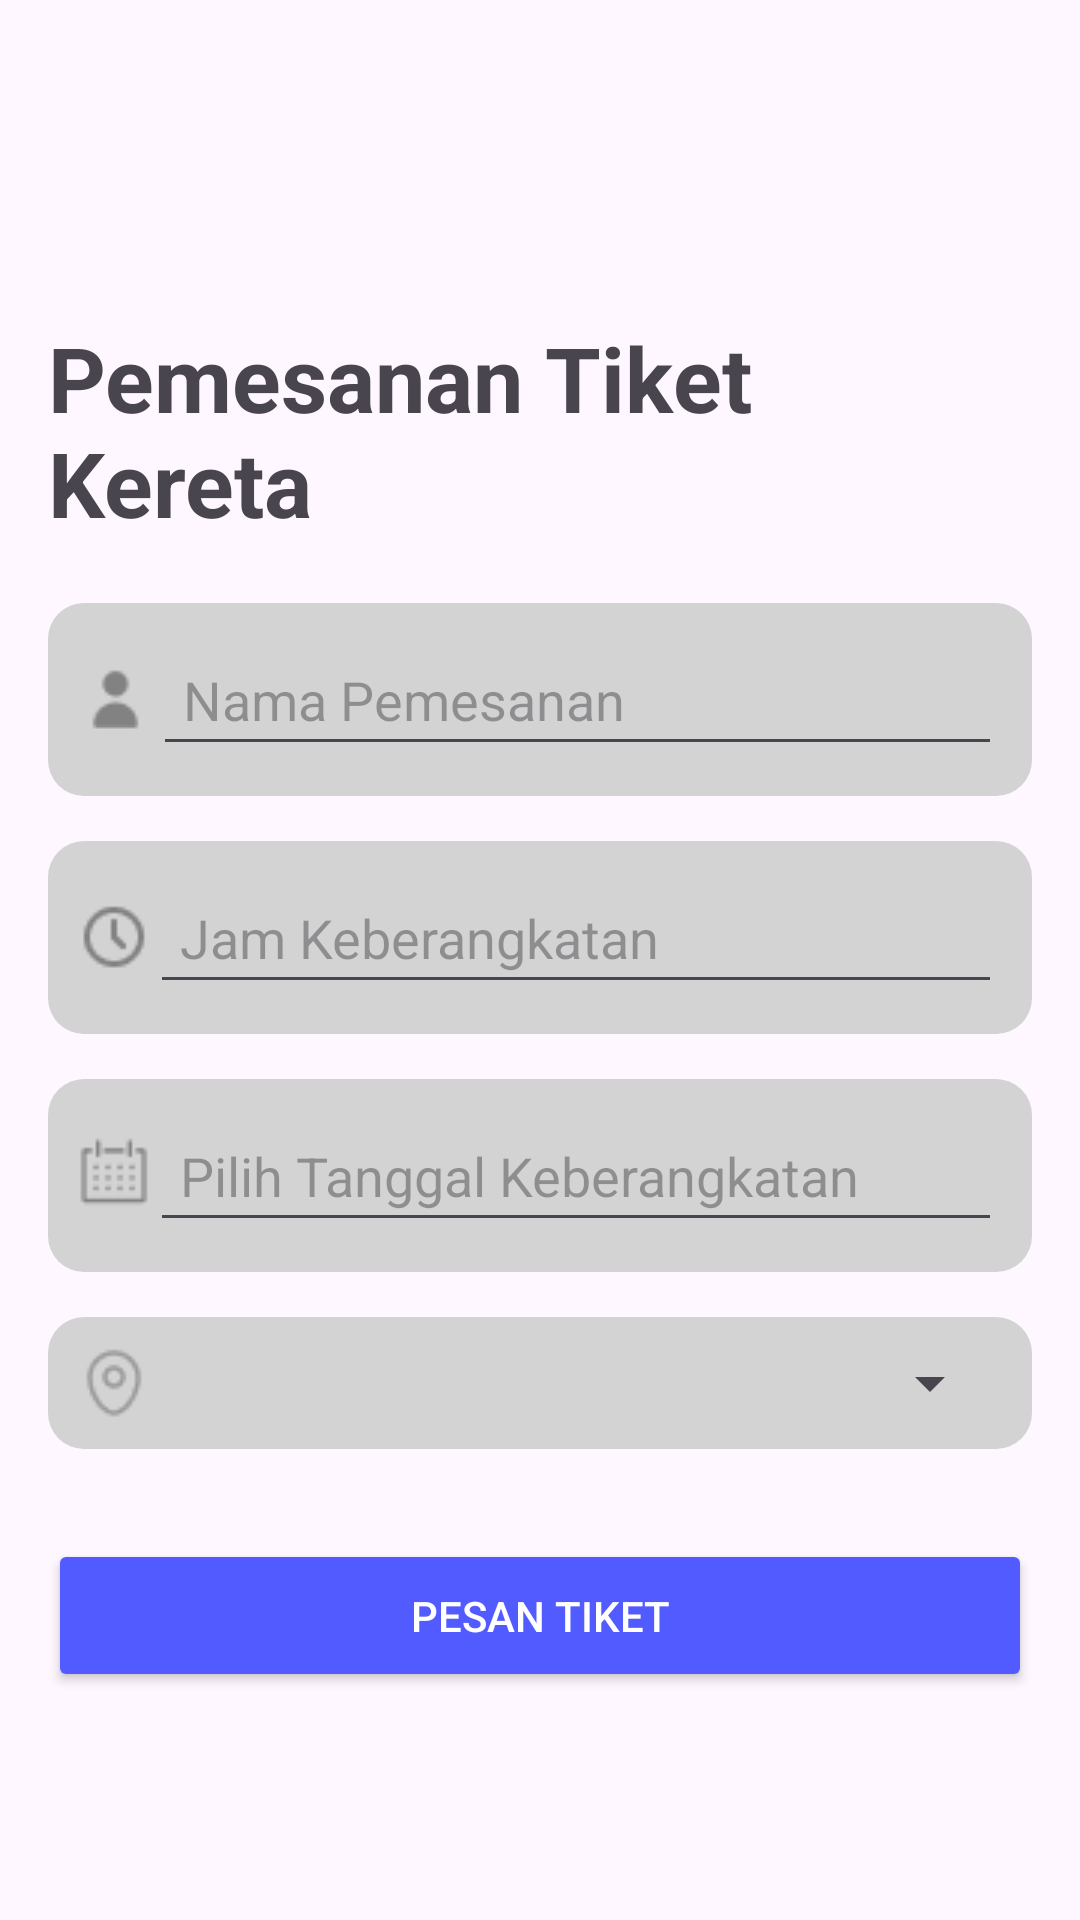

Locate icon controls on the screen. Image size 1080×1920, boxes as (x1, y1, x2, y2).
date: (81, 1139, 147, 1203)
location: (87, 1350, 141, 1416)
time: (83, 906, 145, 968)
user: (93, 671, 138, 728)
